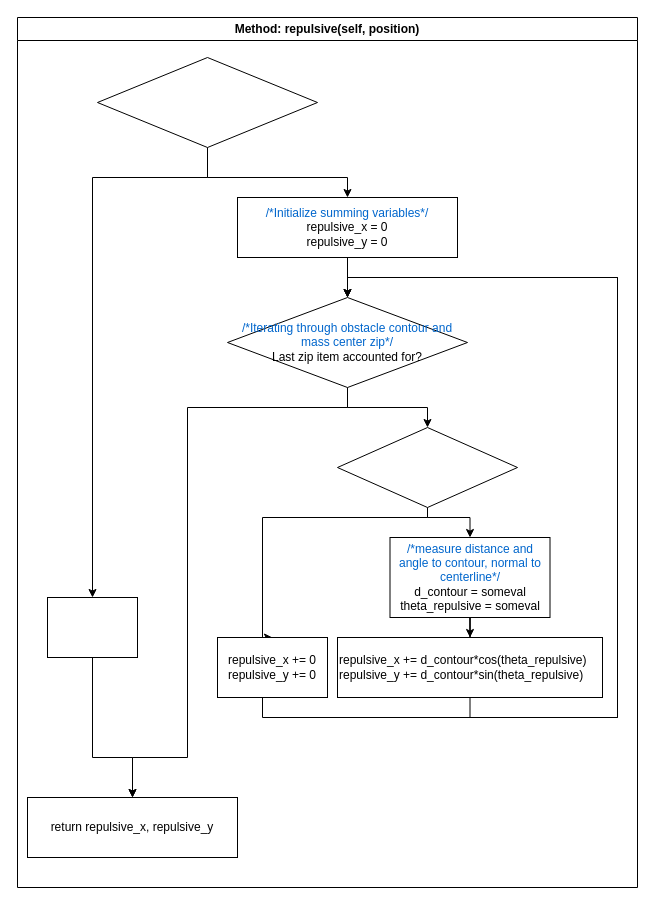
Image size: 655x905. Some labels were removed from this diagram. Each missing label, with the box of its shape:
/*Are obstacles present?*/ if len(self.obstacles) > 0: (96, 56, 318, 148)
/*Is current position inside radius for obstacle?*/: (336, 426, 518, 508)
repulsive_x = 0 repulsive_y = 0: (46, 596, 138, 658)
